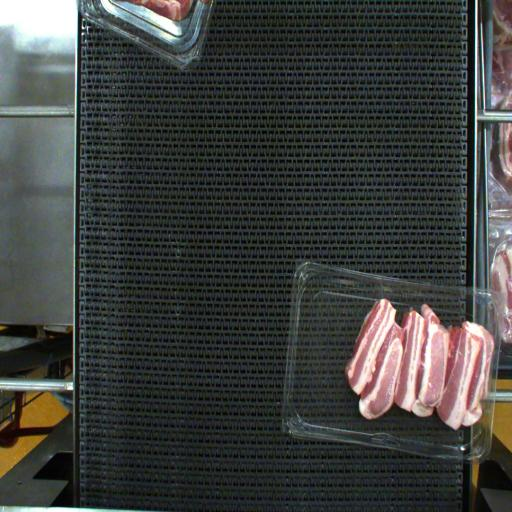packaging-error: (462, 328, 506, 452)
